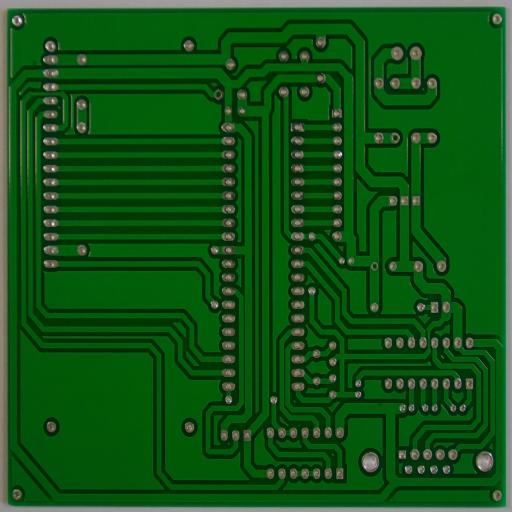missing_hole: (214, 89, 224, 101), (390, 132, 400, 144), (370, 262, 379, 272)
